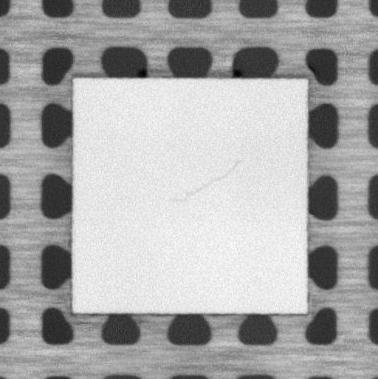DIE_CRACK: (189, 159, 244, 197)
